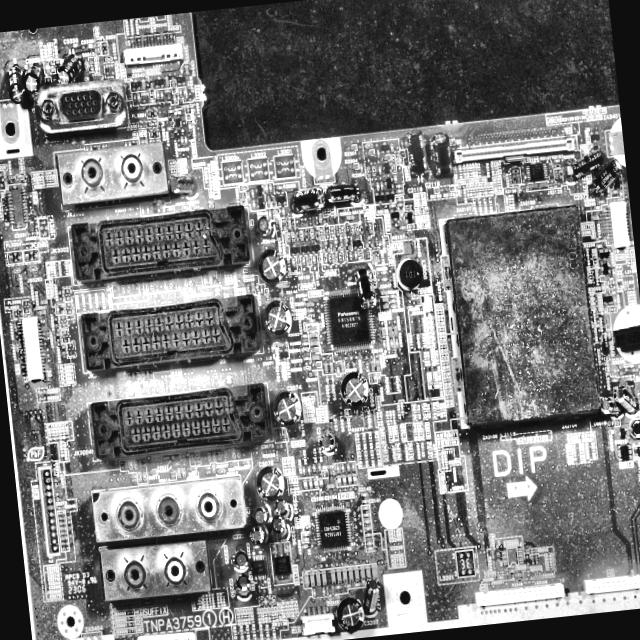PCB: (0, 12, 640, 640)
